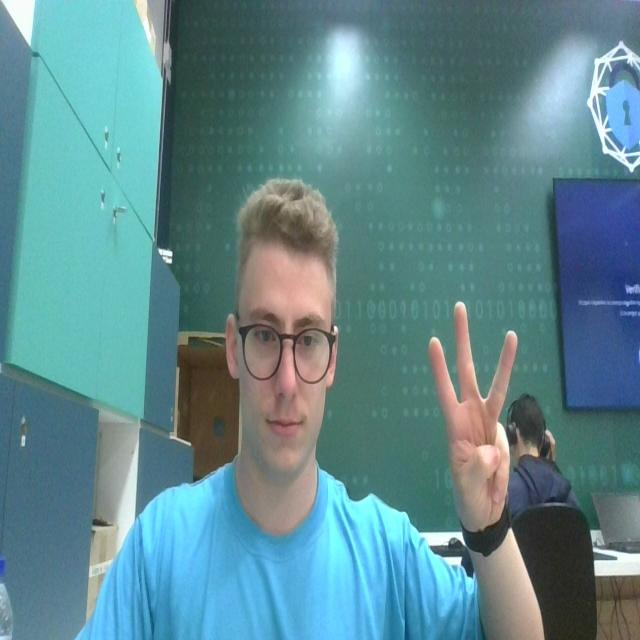W: (420, 295, 522, 529)
